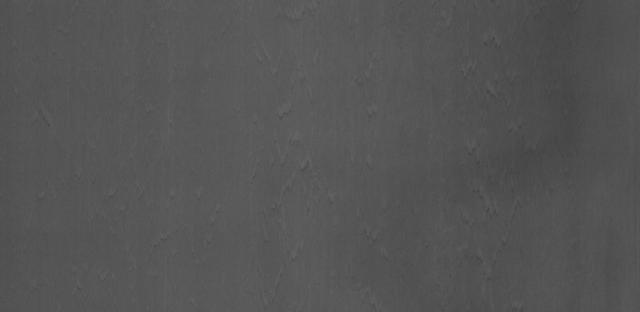silk_spot: (262, 85, 338, 222)
